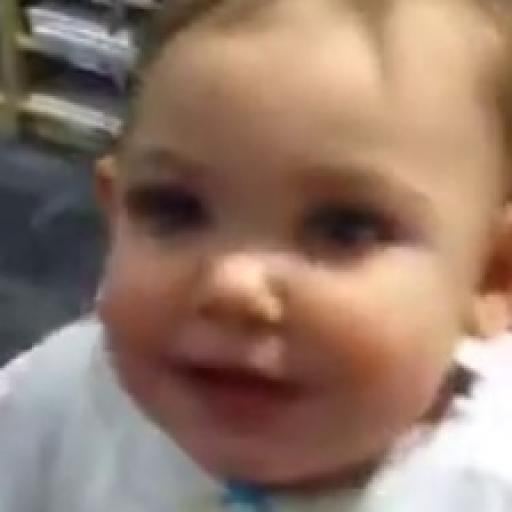Autism: (102, 22, 512, 493)
